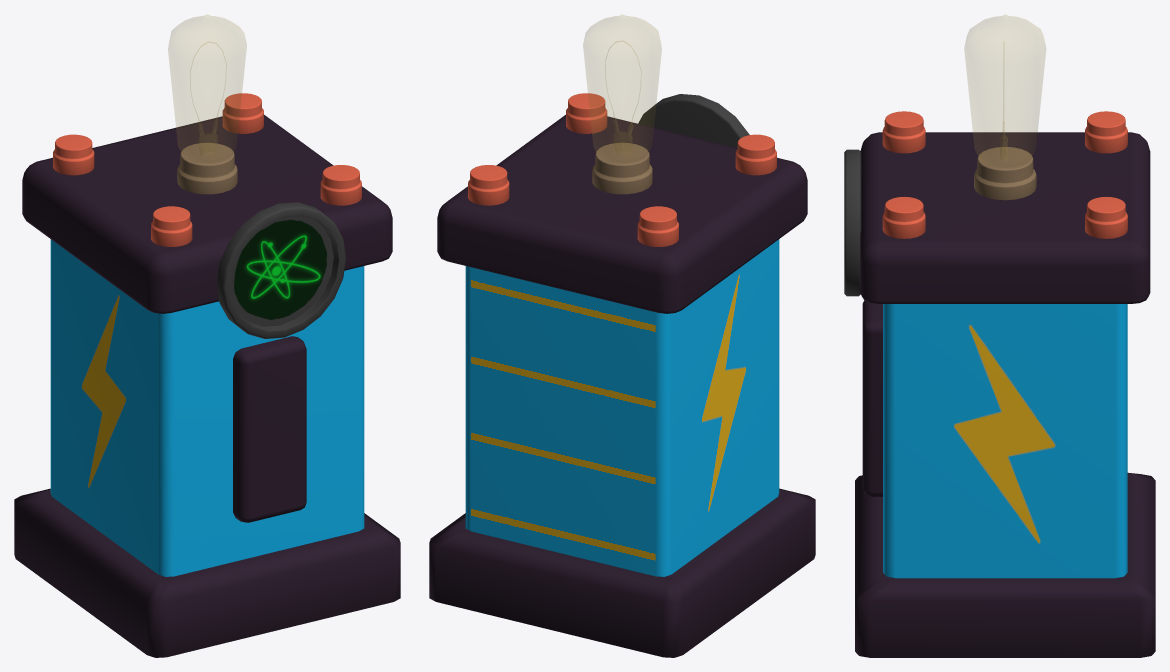
Rendered from BatteryPre.fbx.
3 views of the same model, side by side, from view 1: azimuth 30°, elevation 25°; view 2: azimuth 150°, elevation 25°; view 3: azimuth 270°, elevation 25° (orthographic). The views are drawn at different scales.
Parts seen in each view (by area): view 1: pCube3, pCube2, pCube4, pCylinder5, pCube5, Bulb_low, pCylinder6, pCylinder4, pCylinder1, pCylinder2, pCylinder3; view 2: pCube3, pCube2, pCube4, Bulb_low, pCylinder5, pCylinder6, pCylinder3, pCylinder2, pCylinder1, pCylinder4; view 3: pCube3, pCube2, pCube4, Bulb_low, pCube5, pCylinder6, pCylinder5, pCylinder3, pCylinder2, pCylinder4, pCylinder1.
Boxes of the visible parts, x1,y1,x2,y2 form: pCube3: (50,239,364,576); pCube2: (22,115,392,313); pCube4: (14,488,400,657); pCylinder5: (216,202,346,338); pCube5: (233,336,306,522); Bulb_low: (168,14,246,156); pCylinder6: (177,142,237,194); pCylinder4: (53,134,94,175); pCylinder1: (222,93,263,133); pCylinder2: (320,165,361,205); pCylinder3: (151,206,192,246); pCube3: (465,239,779,576); pCube2: (437,115,807,313); pCube4: (429,488,815,657); Bulb_low: (583,14,661,155); pCylinder5: (638,94,749,147); pCylinder6: (592,142,652,194); pCylinder3: (735,134,776,175); pCylinder2: (566,93,607,133); pCylinder1: (468,165,509,205); pCylinder4: (637,206,678,246); pCube3: (883,304,1127,578); pCube2: (860,132,1150,303); pCube4: (855,472,1155,657); Bulb_low: (964,14,1045,161); pCube5: (862,300,882,496); pCylinder6: (974,146,1036,200); pCylinder5: (844,149,861,296); pCylinder3: (882,111,925,153); pCylinder2: (882,196,925,238); pCylinder4: (1085,111,1127,153); pCylinder1: (1085,196,1127,238).
Bounding box in the file's own units: 8.93 × 19.46 × 9.24.
